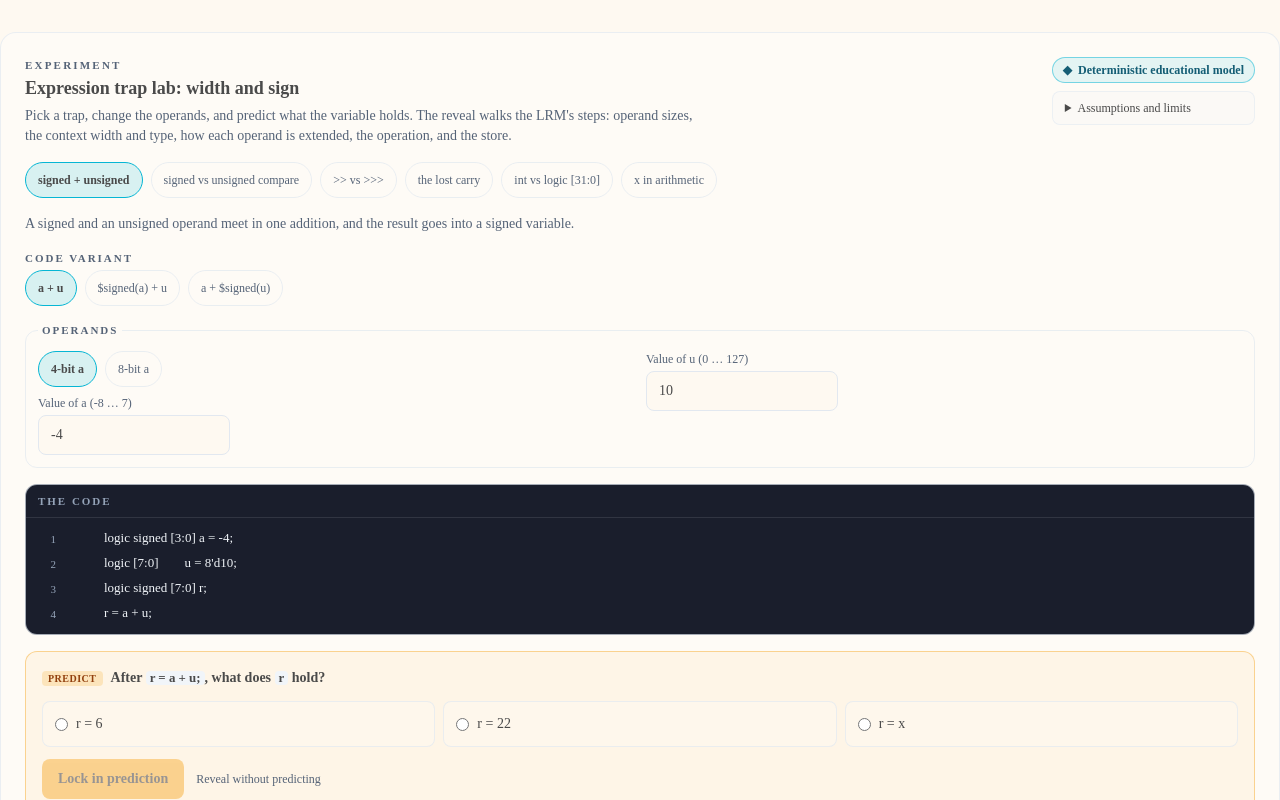
Test: SignednessVisualizer (expression trap lab) › changing the operand width updates the declaration
Click the radio button labelled "8-bit a". click: [134, 368]
box: [105,350,162,386]
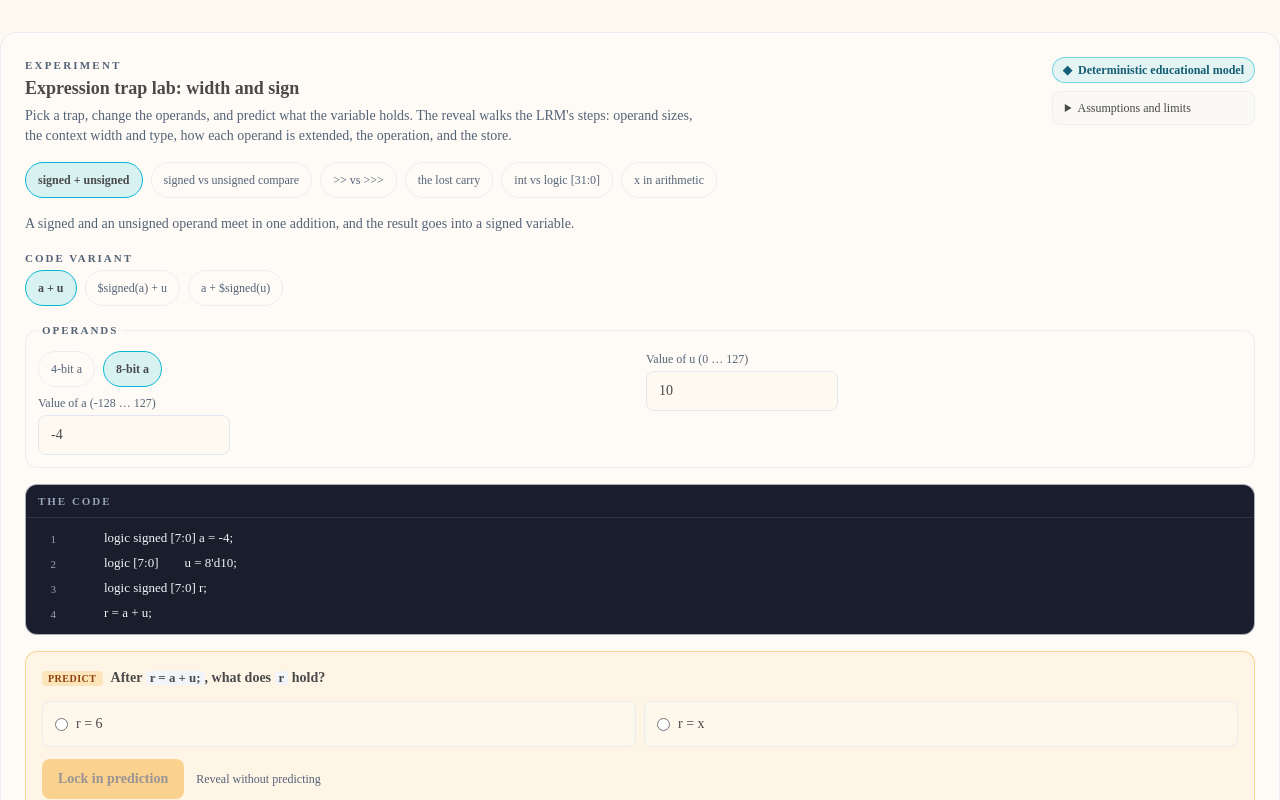
Check: the text "logic signed [7:0] a = -4;" is shown, box [104,530,233,545]
